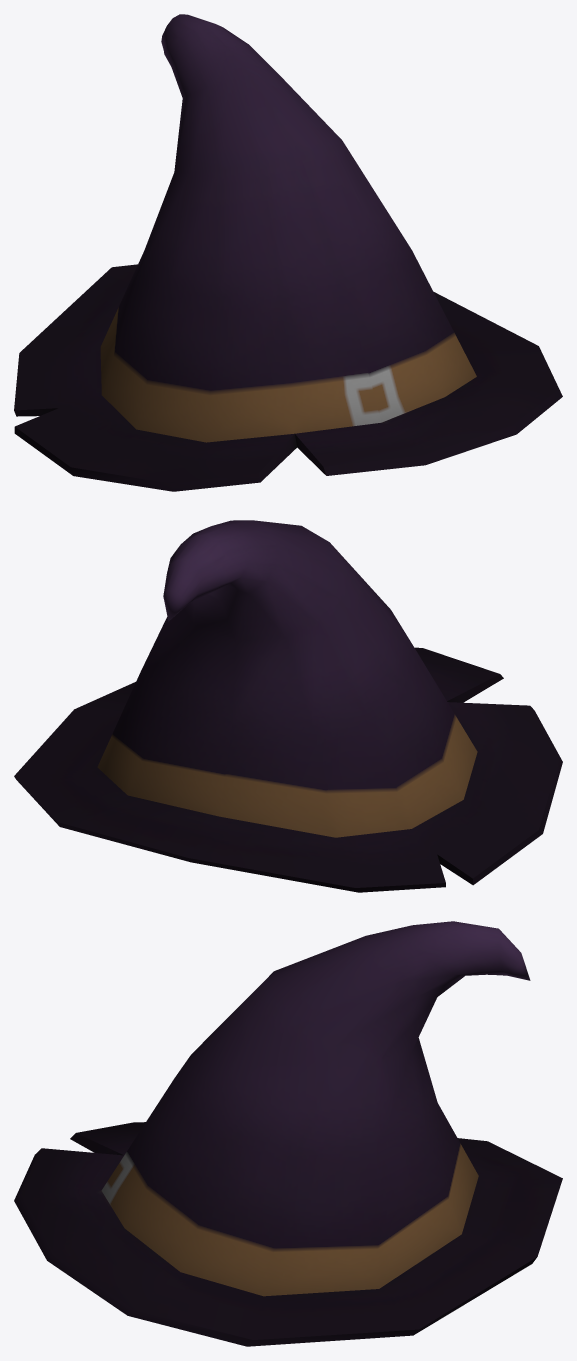
The model's file is WizardHat.fbx.
3 views of the same model, one above another, from view 1: azimuth 30°, elevation 25°; view 2: azimuth 150°, elevation 25°; view 3: azimuth 270°, elevation 25° (orthographic).
Visible parts, largest first — view 1: WizardHat; view 2: WizardHat; view 3: WizardHat.
Part boxes in pixels (box(x1,y1,x2,y2)): WizardHat: box(14, 14, 562, 491); WizardHat: box(14, 520, 562, 892); WizardHat: box(14, 921, 562, 1346).
Bounding box in the file's own units: 65.55 × 43.39 × 66.9.
1 material, 1 textured.
